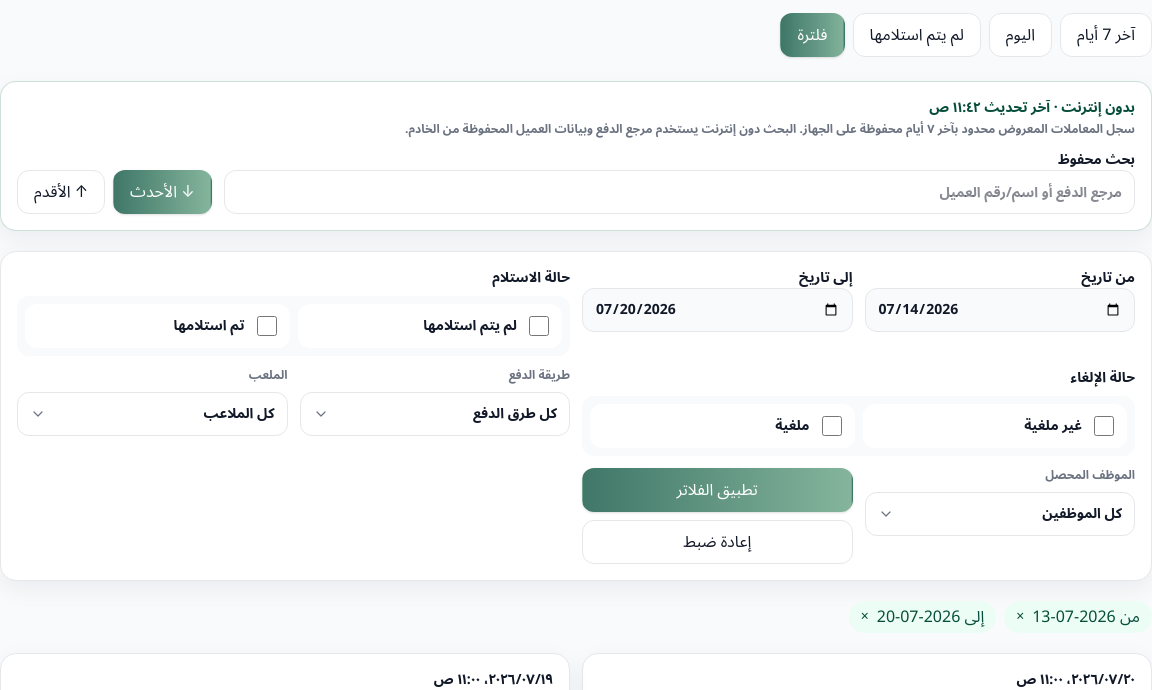
TransactionsListPage › searches cached payment references locally without server requests
The image size is (1152, 690).
In the search field named "بحث في المعاملات المحفوظة": (679, 192) [224,170,1135,214], type "wallet"
Wait 150 ms
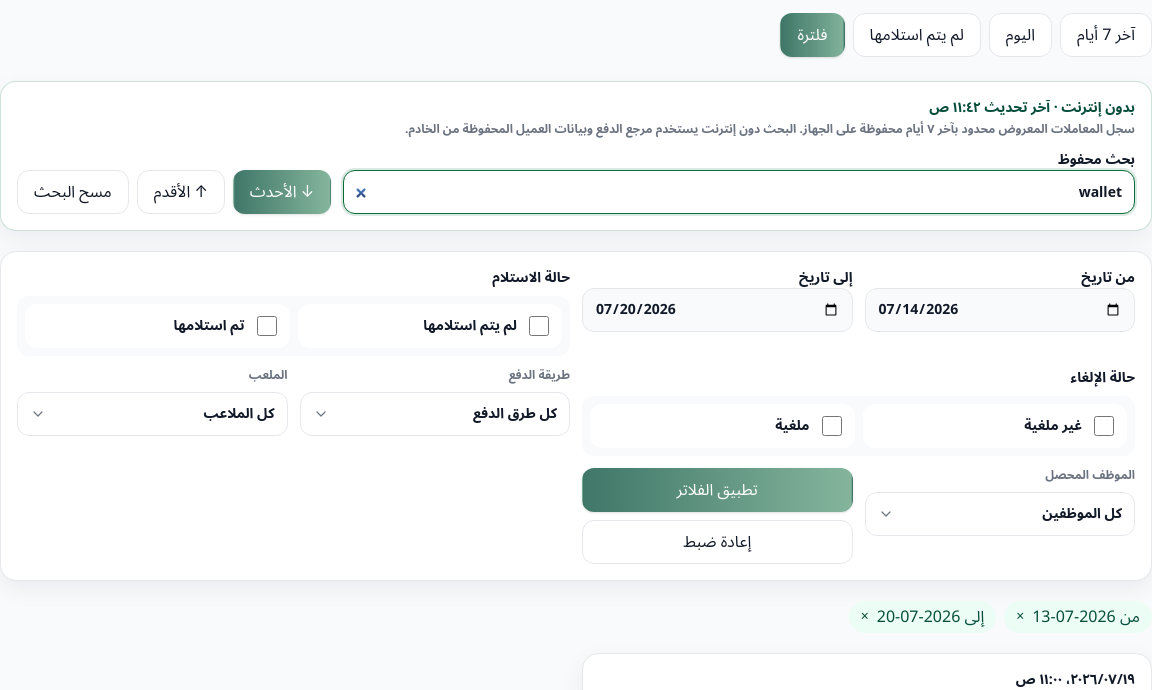
Click the button "مسح البحث": click(73, 192) [17,170,129,214]
(page scrolled)
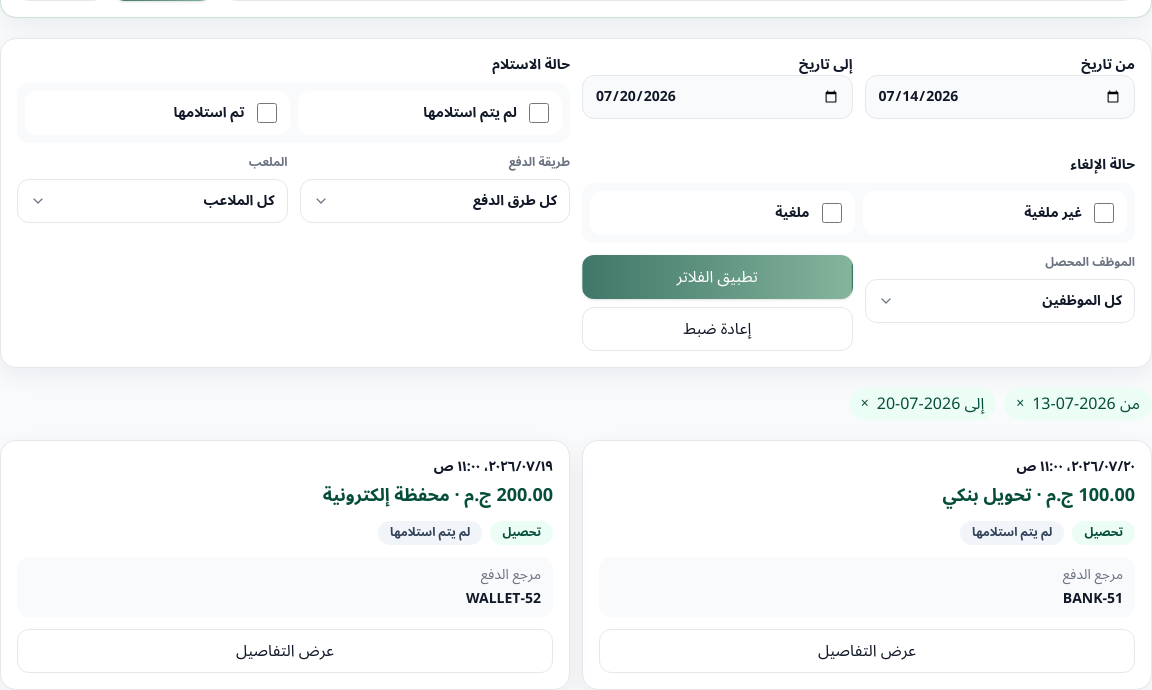
Expected: the text "BANK-51" is shown, [1063,584,1123,613]
